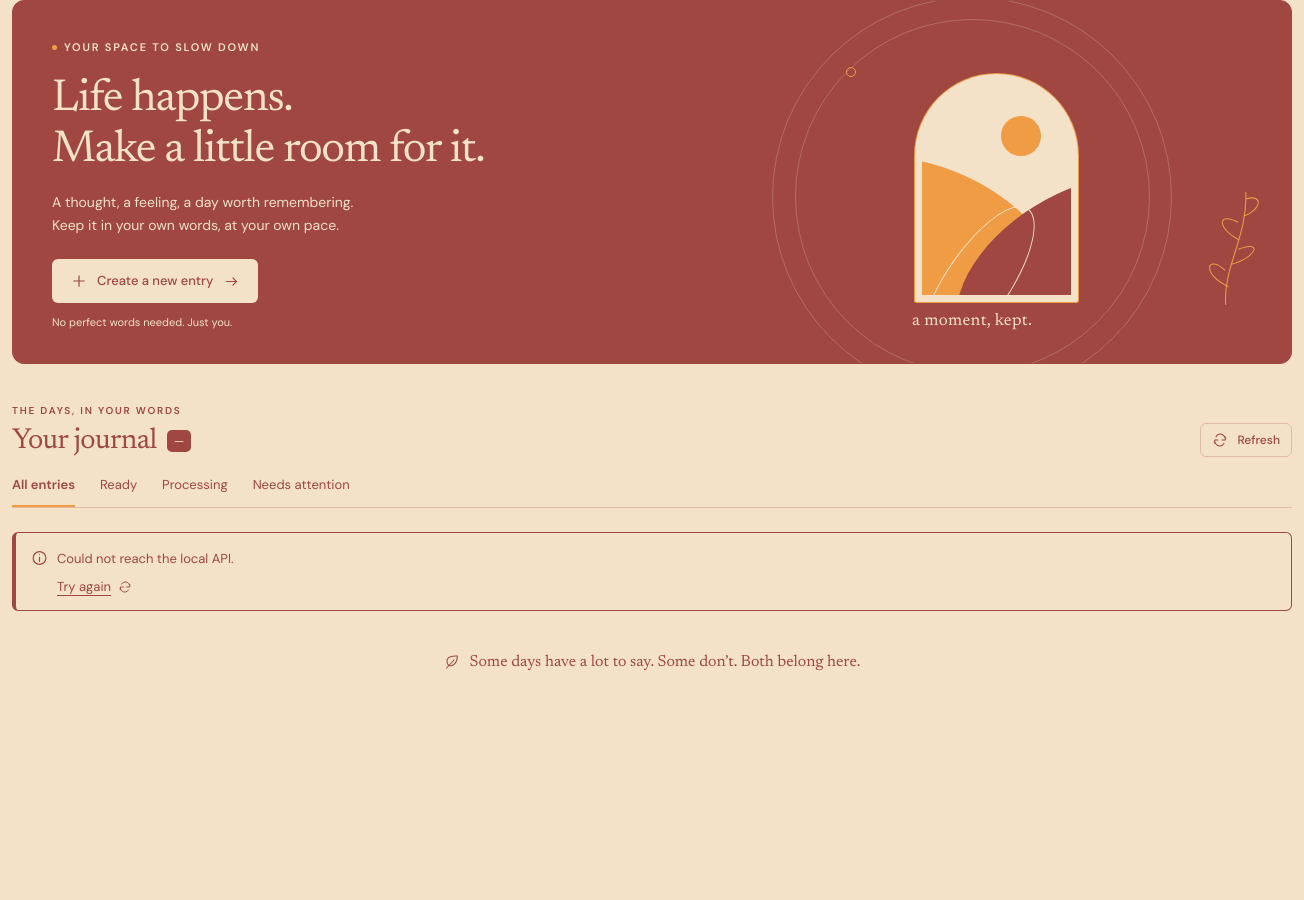
it: journal screens › reports retryable network errors
Expected: the message shows "Could not reach", [57,550,234,567]
Step 1. Click the button "Try again" → (94, 587), box [57,578,132,595]
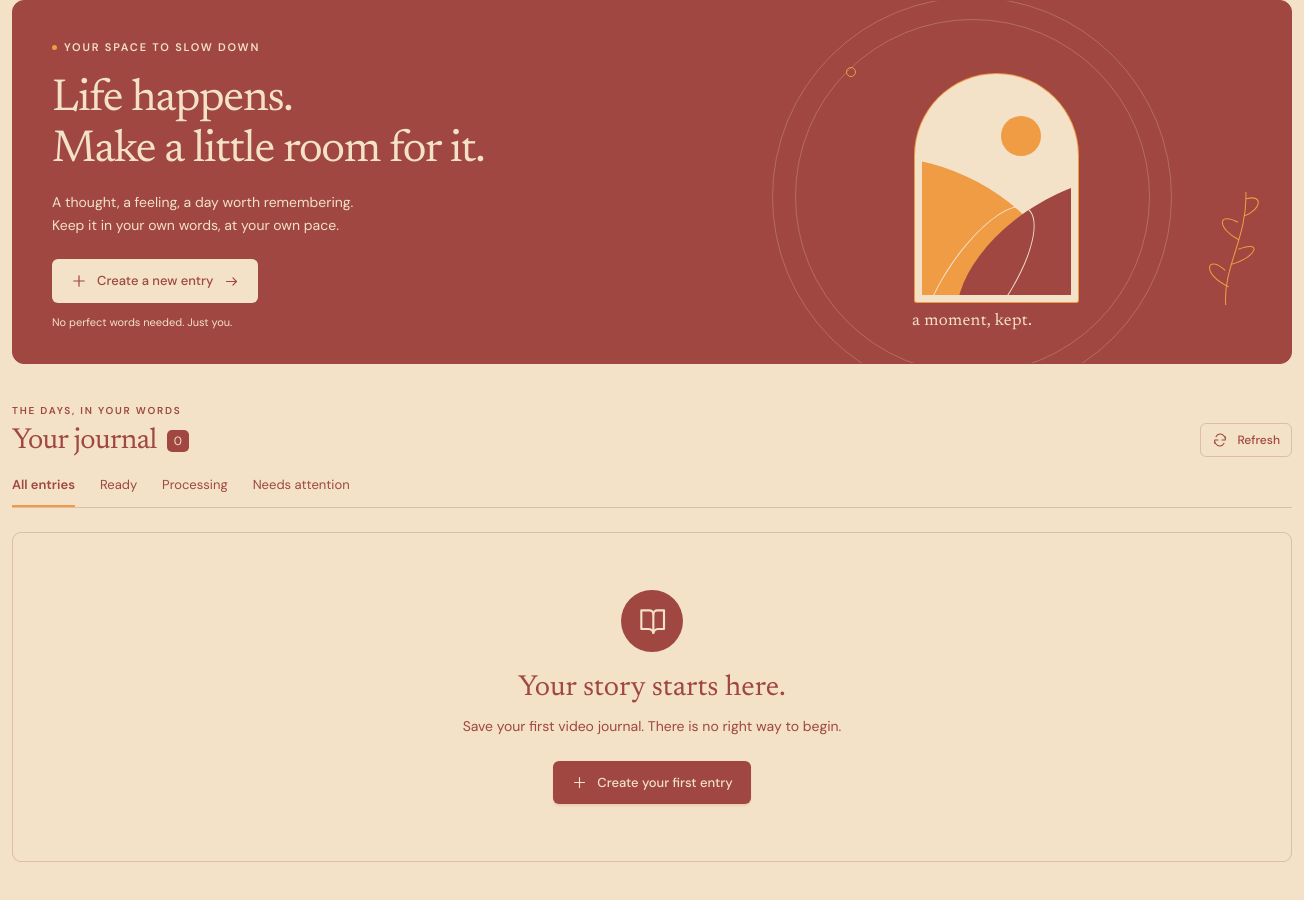
Now the heading "Your story starts here." is shown, box [518,674,786,703]
